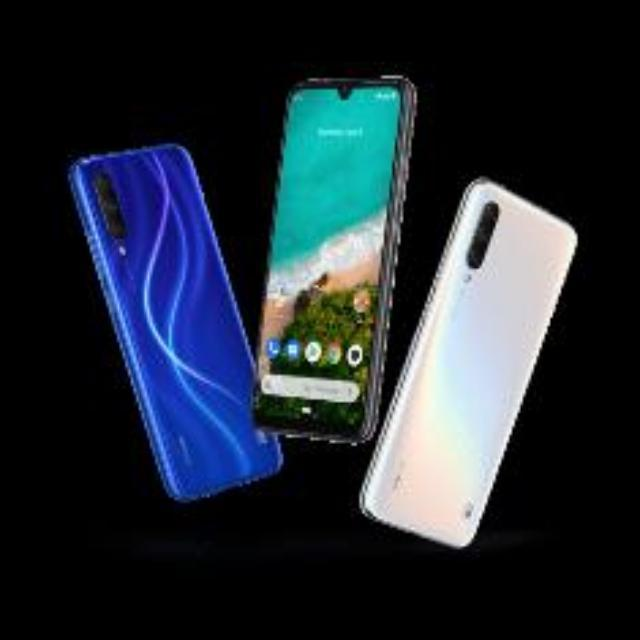PhoneUse: (358, 172, 578, 550), (72, 140, 288, 500), (251, 75, 414, 439)
